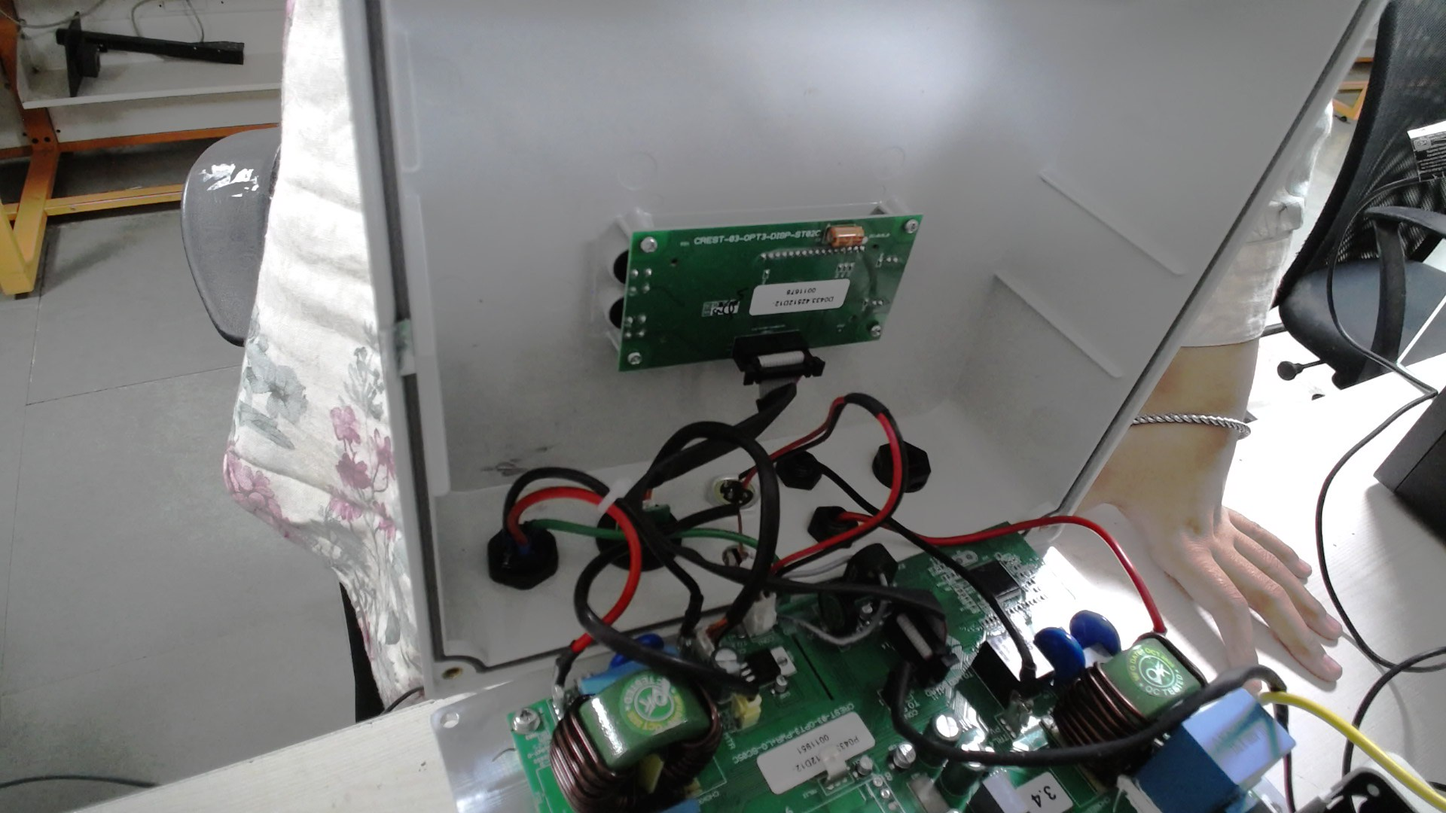wire_red: (474, 481, 568, 595)
